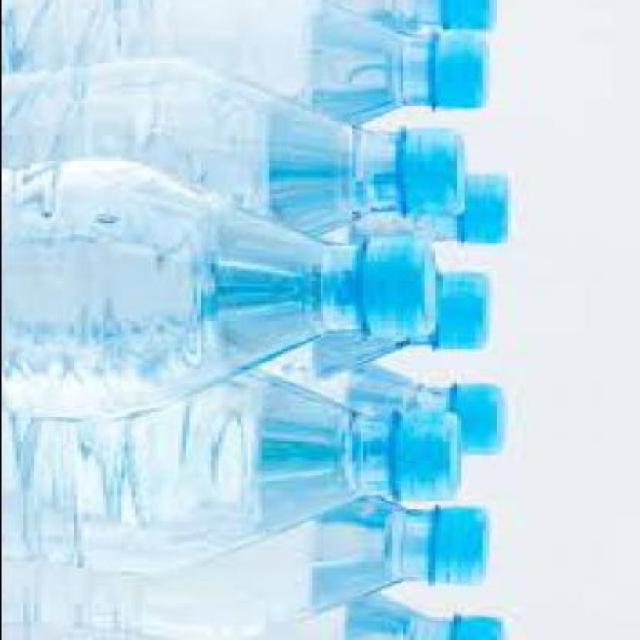PLASTIC: (4, 160, 441, 426), (4, 369, 467, 582), (4, 63, 470, 243), (3, 496, 489, 638), (4, 2, 488, 128), (253, 252, 492, 390), (250, 362, 502, 458), (322, 173, 510, 250), (252, 591, 508, 638), (354, 239, 438, 343), (318, 1, 499, 38), (397, 133, 474, 219), (395, 412, 462, 505), (430, 504, 492, 588), (426, 273, 485, 353), (430, 36, 485, 113), (448, 383, 503, 460), (455, 174, 511, 248), (441, 2, 496, 33), (448, 616, 503, 638)
